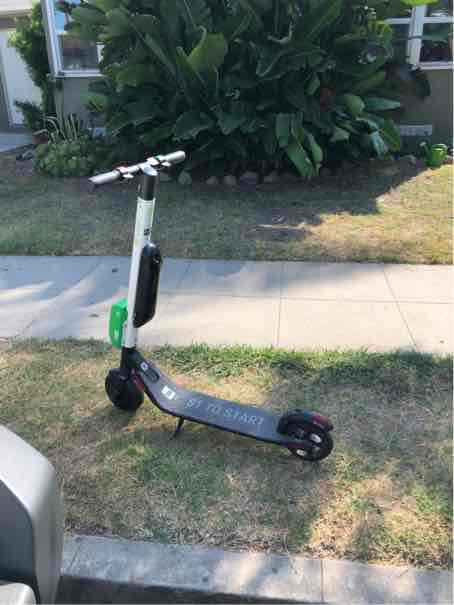scooter: (84, 135, 338, 469)
